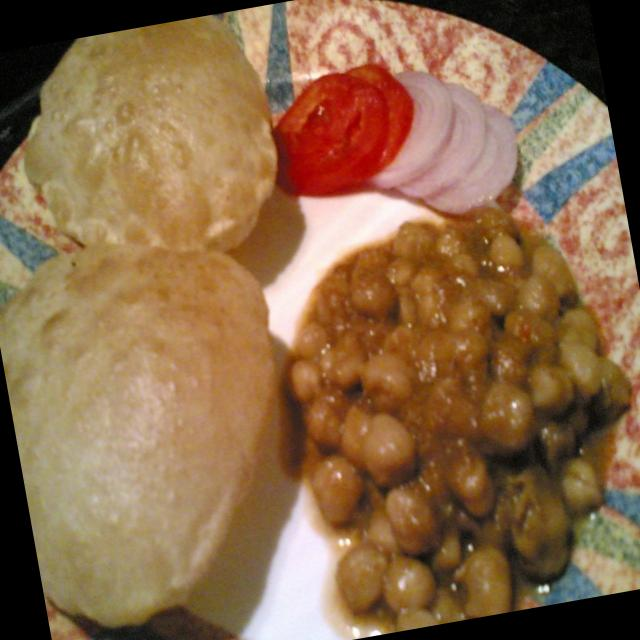Chole: (242, 185, 640, 640)
